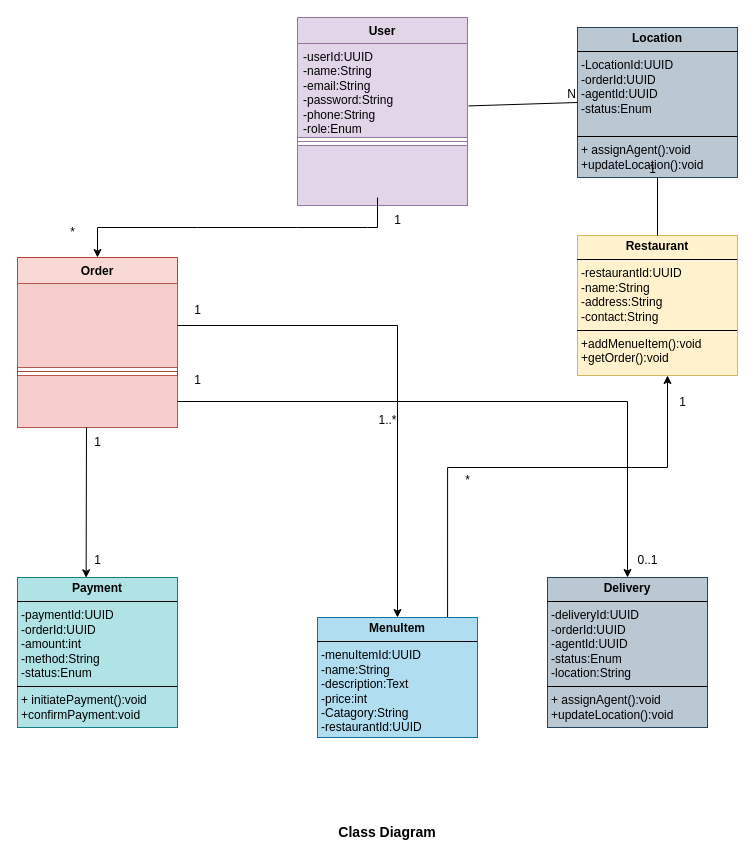
The diagram is 755 pixels wide and 865 high, and some of its shapes have lost their labels. Here are the shapes that lost their labels. From the top down, the centre of each, then its label:
At point (382, 175): "+login():void +register() :void +updateProfile() :void".
At point (97, 325): "-orderId:UUID -userId: UUID -status:Enum -total:int -createdAt:Date".
At point (97, 401): "+createOrder():void +cancelOrder() :void +getStatus() :void".
